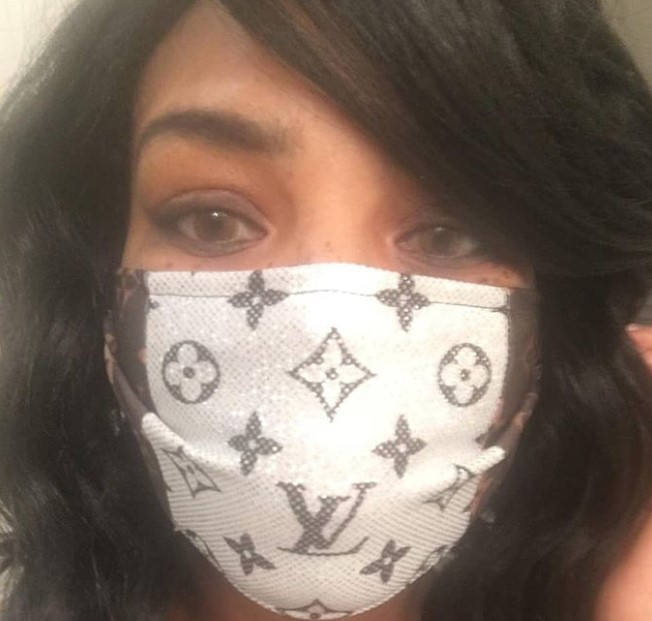face_with_mask: (91, 10, 570, 614)
